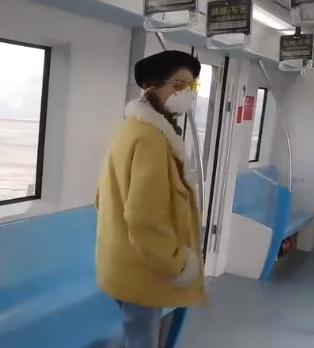OK: (169, 77, 197, 116)
